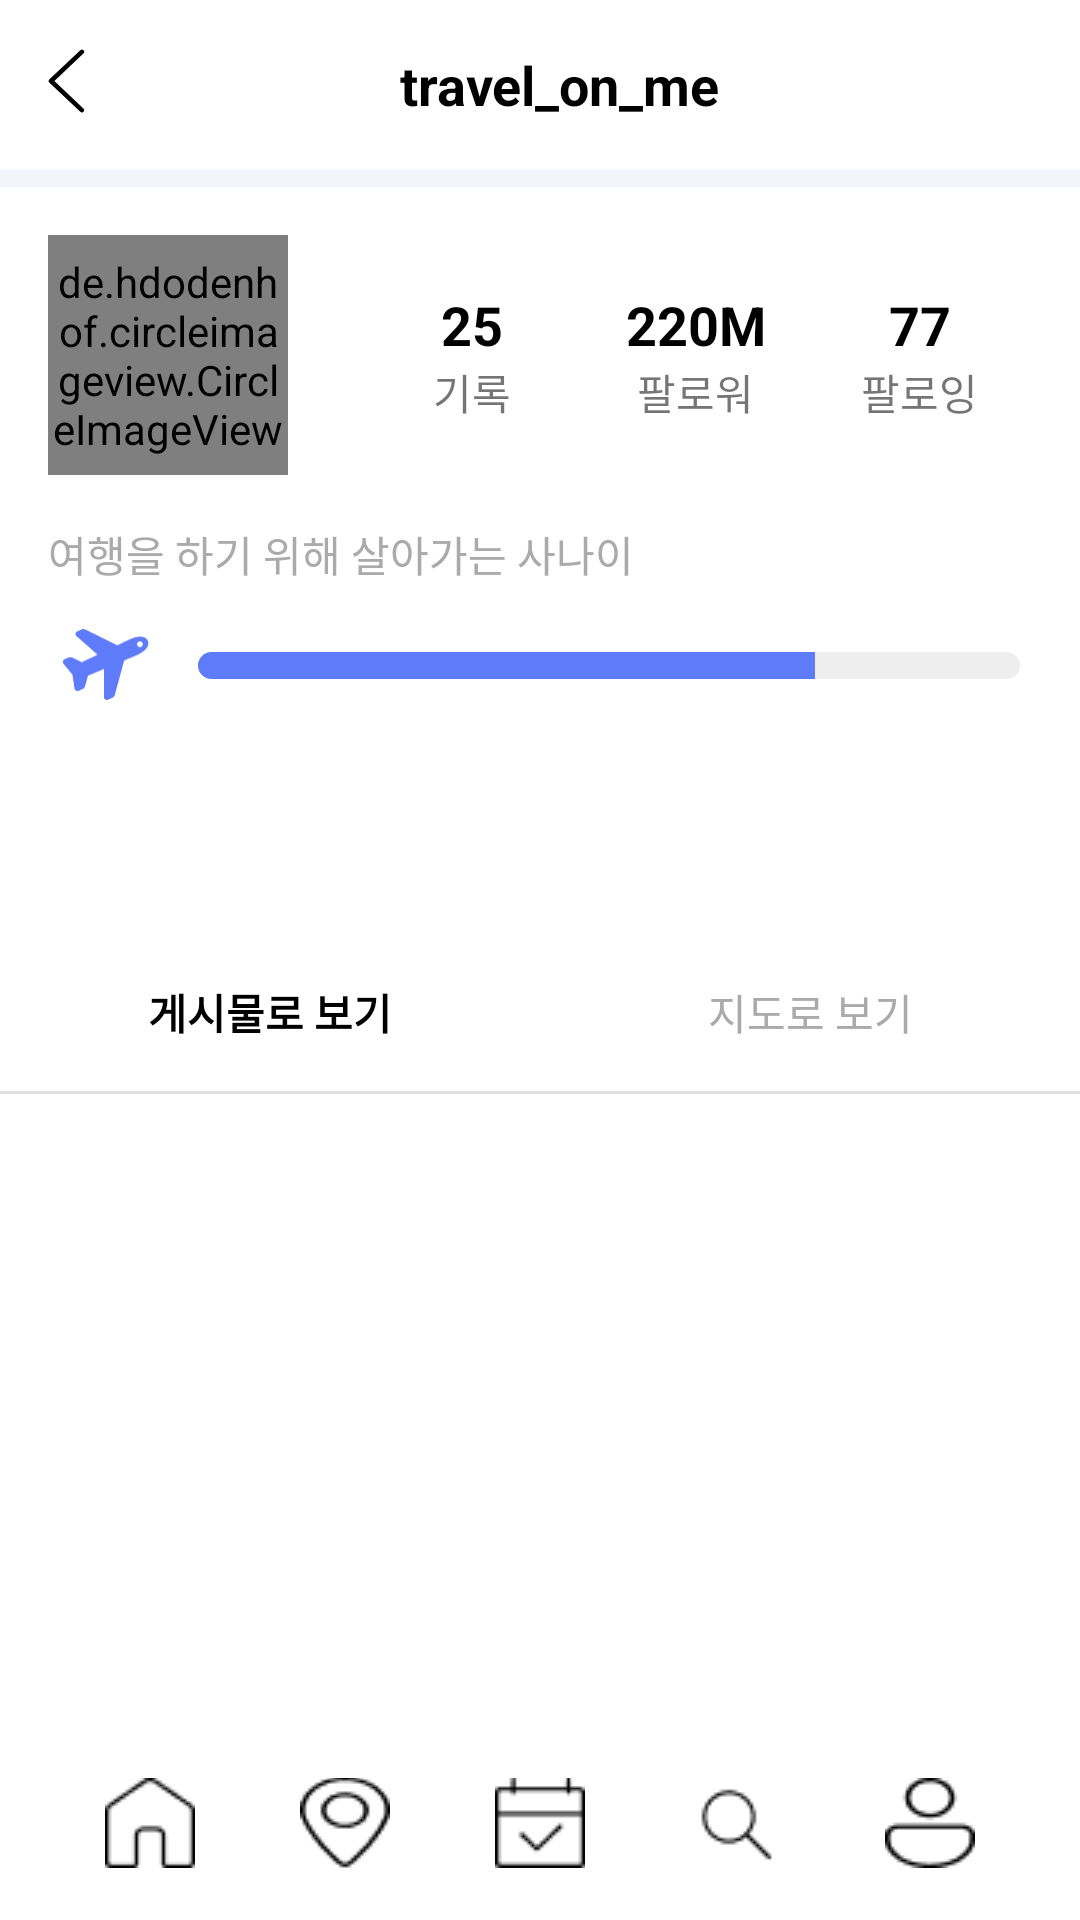

Screen size 1080x1920. Icon name, then its center in pixels as (x,y):
airplane: (106,664)
Back: (66,81)
home: (150,1823)
검색: (736,1824)
나만의 지도: (345,1823)
일정생성: (540,1823)
프로필: (930,1823)
